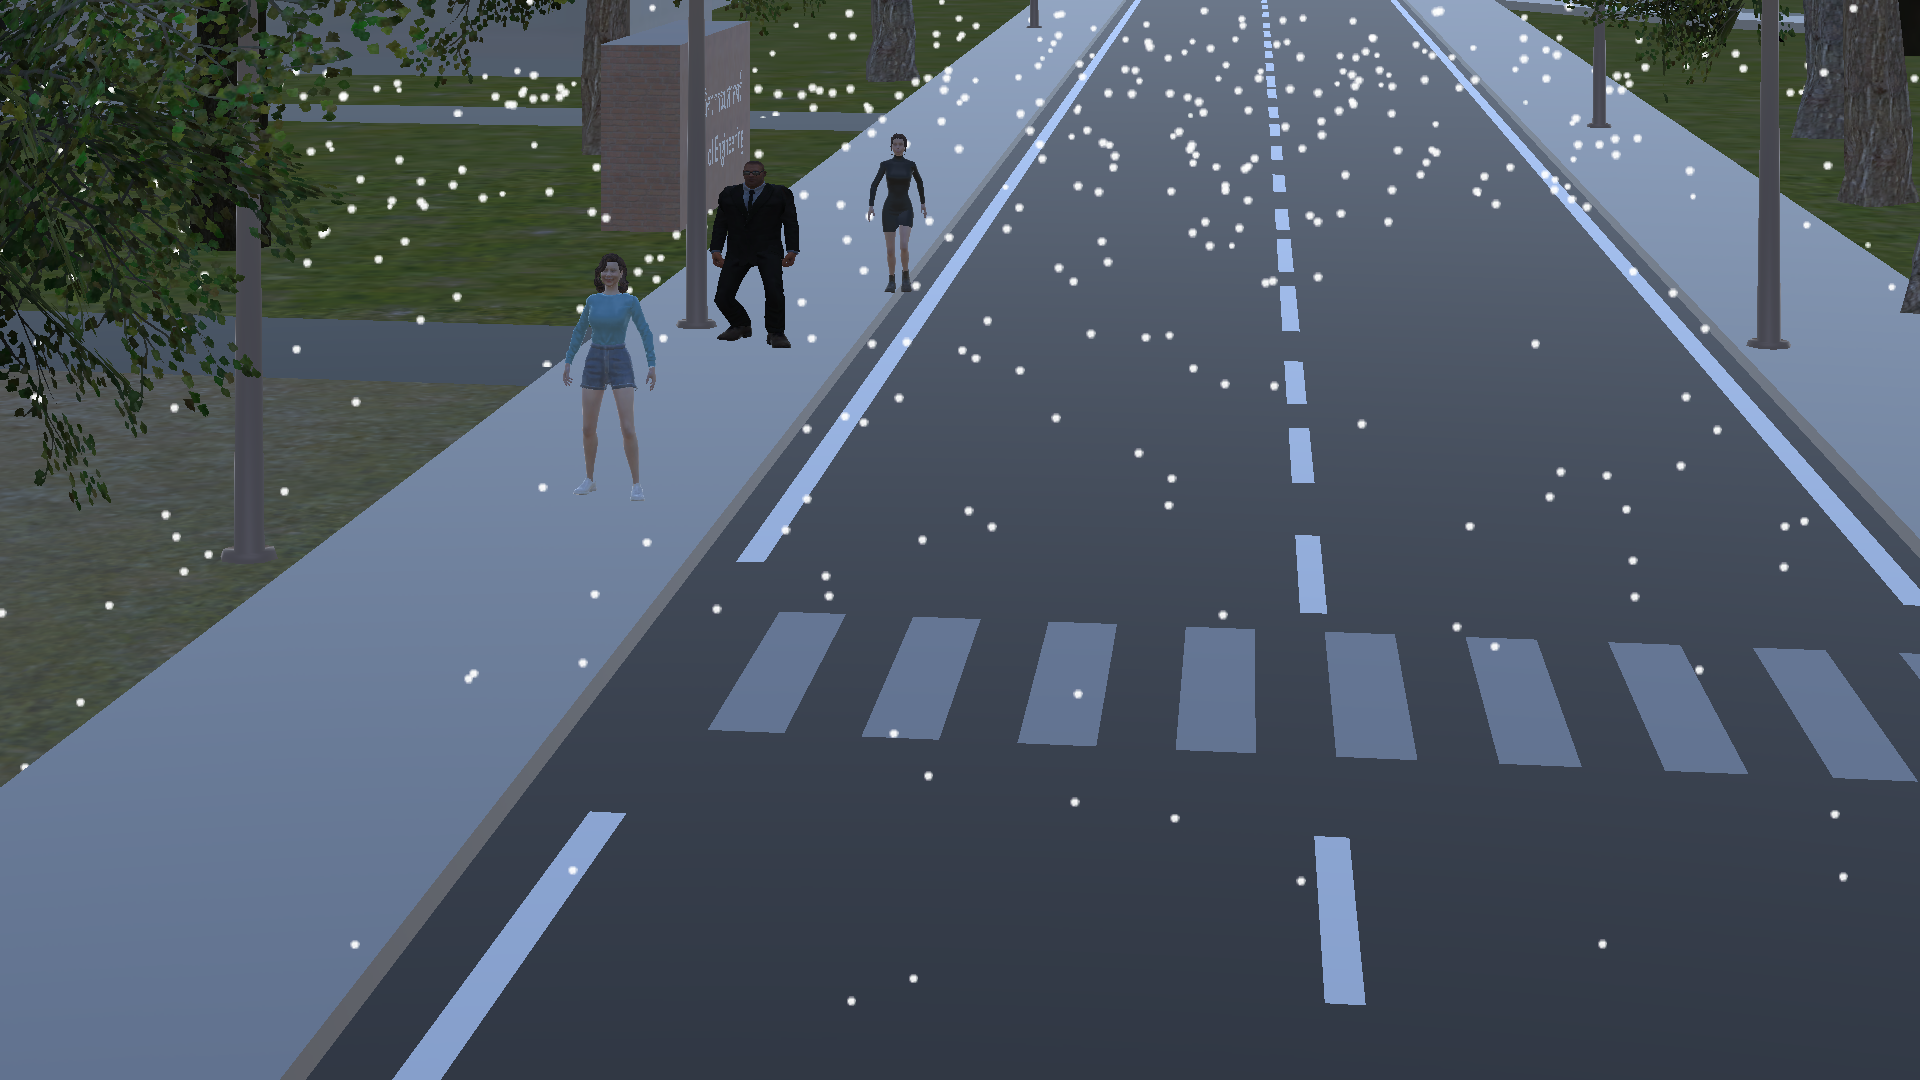pedestrian: (555, 243, 659, 525), (711, 149, 805, 355), (865, 129, 933, 299)
